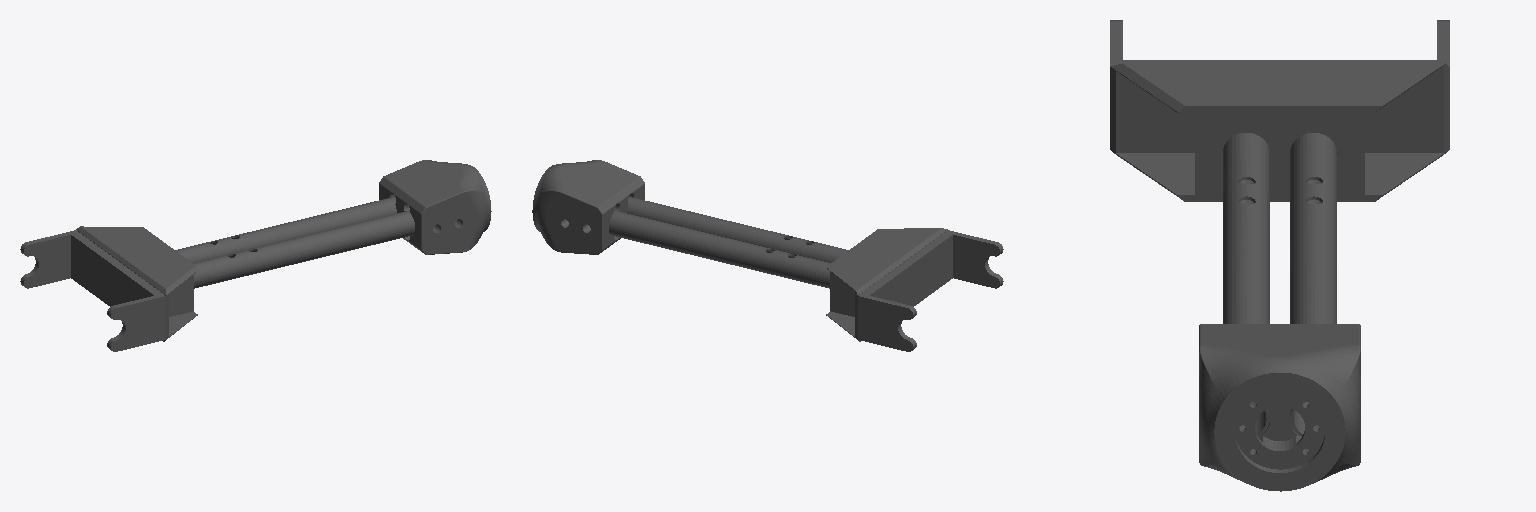
robot.urdf — vx300s:
<?xml version="1.0"?>
<robot name="vx300s" xmlns:xacro="http://ros.org/wiki/xacro">

  <material name="interbotix_black">
    <color rgba="0.4 0.4 0.4 1"/>
  </material>


  <link name="vx300s/base_link">
    <visual>
      <origin rpy="0 0 1.57" xyz="0 0 0"/>
      <geometry>
        <mesh filename="package://vx300s_meshes/vx300s_1_base.stl" scale="0.001 0.001 0.001"/>
      </geometry>
      <material name="interbotix_black"/>
    </visual>
    <collision>
      <origin rpy="0 0 1.57" xyz="0 0 0"/>
      <geometry>
        <mesh filename="package://vx300s_meshes/vx300s_1_base.stl" scale="0.001 0.001 0.001"/>
      </geometry>
    </collision>
    <inertial>
      <origin rpy="0 0 1.57" xyz="-0.0534774000 -0.0005625750 0.0205961000"/>
      <mass value="0.969034" />
      <inertia ixx="0.0060240000" iyy="0.0017000000" izz="0.0071620000" ixy="0.0000471300" ixz="0.0000038510" iyz="-0.0000841500" />
    </inertial>
  </link>
  

  <joint name="waist" type="revolute">
    <axis xyz="0 0 1"/>
    <limit effort="10" lower="-3.141582653589793" upper="3.141582653589793" velocity="3.141582653589793"/>
    <origin rpy="0 0 0" xyz="0 0 0.079"/>
    <parent link="vx300s/base_link"/>
    <child link="vx300s/shoulder_link"/>
    <dynamics friction="0.1"/>
  </joint>

  <transmission name="trans_waist">
    <type>transmission_interface/SimpleTransmission</type>
    <joint name="waist">
      <hardwareInterface>hardware_interface/EffortJointInterface</hardwareInterface>
    </joint>
    <actuator name="waist_motor">
      <mechanicalReduction>1</mechanicalReduction>
    </actuator>
  </transmission>

  <link name="vx300s/shoulder_link">
    <visual>
      <origin rpy="0 0 1.57" xyz="0 0 -0.003"/>
      <geometry>
        <mesh filename="package://vx300s_meshes/vx300s_2_shoulder.stl" scale="0.001 0.001 0.001"/>
      </geometry>
      <material name="interbotix_black"/>
    </visual>
    <collision>
      <origin rpy="0 0 1.57" xyz="0 0 -0.003"/>
      <geometry>
        <mesh filename="package://vx300s_meshes/vx300s_2_shoulder.stl" scale="0.001 0.001 0.001"/>
      </geometry>
    </collision>
    <inertial>
      <origin rpy="0 0 1.57" xyz="0.0002592330 -0.0000033552 0.0116129000"/>
      <mass value="0.798614" />
      <inertia ixx="0.0009388000" iyy="0.0011380000" izz="0.0012010000" ixy="-0.0000000010" ixz="-0.0000000191" iyz="0.0000059568" />
    </inertial>
  </link>

  <joint name="shoulder" type="revolute">
    <axis xyz="0 1 0"/>
    <limit effort="20" lower="-1.8500490071139892" upper="1.2566370614359172" velocity="3.141592653589793"/>
    <origin rpy="0 0 0" xyz="0 0 0.04805"/>
    <parent link="vx300s/shoulder_link"/>
    <child link="vx300s/upper_arm_link"/>
    <dynamics friction="0.1"/>
  </joint>

  <transmission name="trans_shoulder">
    <type>transmission_interface/SimpleTransmission</type>
    <joint name="shoulder">
      <hardwareInterface>hardware_interface/EffortJointInterface</hardwareInterface>
    </joint>
    <actuator name="shoulder_motor">
      <mechanicalReduction>1</mechanicalReduction>
    </actuator>
  </transmission>

  <link name="vx300s/upper_arm_link">
    <visual>
      <origin rpy="0 0 1.57" xyz="0 0 0"/>
      <geometry>
        <mesh filename="package://vx300s_meshes/vx300s_3_upper_arm.stl" scale="0.001 0.001 0.001"/>
      </geometry>
      <material name="interbotix_black"/>
    </visual>
    <collision>
      <origin rpy="0 0 1.57" xyz="0 0 0"/>
      <geometry>
        <mesh filename="package://vx300s_meshes/vx300s_3_upper_arm.stl" scale="0.001 0.001 0.001"/>
      </geometry>
    </collision>
    <inertial>
      <origin rpy="0 0 1.57" xyz="0.0206949000 0.0000000004 0.2264590000"/>
      <mass value="0.792592" />
      <inertia ixx="0.0089250000" iyy="0.0089370000" izz="0.0009357000" ixy="0.0000000000" ixz="0.0000000000" iyz="0.0012010000" />
    </inertial>
  </link>

  <joint name="elbow" type="revolute">
    <axis xyz="0 1 0"/>
    <limit effort="15" lower="-1.7627825445142729" upper="1.6057029118347832" velocity="3.141592653589793"/>
    <origin rpy="0 0 0" xyz="0.05955 0 0.3"/>
    <parent link="vx300s/upper_arm_link"/>
    <child link="vx300s/upper_forearm_link"/>
    <dynamics friction="0.1"/>
  </joint>

  <transmission name="trans_elbow">
    <type>transmission_interface/SimpleTransmission</type>
    <joint name="elbow">
      <hardwareInterface>hardware_interface/EffortJointInterface</hardwareInterface>
    </joint>
    <actuator name="elbow_motor">
      <mechanicalReduction>1</mechanicalReduction>
    </actuator>
  </transmission>

  <link name="vx300s/upper_forearm_link">
    <visual>
      <origin rpy="0 0 0" xyz="0 0 0"/>
      <geometry>
        <mesh filename="package://vx300s_meshes/newarm.stl" scale="0.001 0.001 0.001"/>
      </geometry>
      <material name="interbotix_black"/>
    </visual>
    <collision>
      <origin rpy="0 0 0" xyz="0 0 0"/>
      <geometry>
        <mesh filename="package://vx300s_meshes/newarm.stl" scale="0.001 0.001 0.001"/>
      </geometry>
    </collision>
    <inertial>
      <origin rpy="0 0 0" xyz="0.105723 0 0"/>
      <mass value="0.322228" />
      <inertia ixx="0.0001524000" iyy="0.0013420000" izz="0.0014410000" ixy="-0.0000188300" ixz="-0.0000084064" iyz="0.0000012564" />
    </inertial>
  </link>

  <joint name="forearm_roll" type="revolute">
    <axis xyz="1 0 0"/>
    <limit effort="2" lower="-3.141582653589793" upper="3.141582653589793" velocity="3.141582653589793"/>
    <origin rpy="0 0 0" xyz="0.2523 0 0"/>
    <parent link="vx300s/upper_forearm_link"/>
    <child link="vx300s/lower_forearm_link"/>
    <dynamics friction="0.1"/>
  </joint>

  <transmission name="trans_forearm_roll">
    <type>transmission_interface/SimpleTransmission</type>
    <joint name="forearm_roll">
      <hardwareInterface>hardware_interface/EffortJointInterface</hardwareInterface>
    </joint>
    <actuator name="forearm_roll_motor">
      <mechanicalReduction>1</mechanicalReduction>
    </actuator>
  </transmission>

  <link name="vx300s/lower_forearm_link">
    <visual>
      <origin rpy="3.141582653589793 0 0" xyz="0 0 0"/>
      <geometry>
        <mesh filename="package://vx300s_meshes/vx300s_5_lower_forearm.stl" scale="0.001 0.001 0.001"/>
      </geometry>
      <material name="interbotix_black"/>
    </visual>
    <collision>
      <origin rpy="3.141582653589793 0 0" xyz="0 0 0"/>
      <geometry>
        <mesh filename="package://vx300s_meshes/vx300s_5_lower_forearm.stl" scale="0.001 0.001 0.001"/>
      </geometry>
    </collision>
    <inertial>
      <origin rpy="3.141582653589793 0 0" xyz="0.0513477000 0.0068046200 0"/>
      <mass value="0.414823" />
      <inertia ixx="0.0001753000" iyy="0.0005269000" izz="0.0005911000" ixy="-0.0000852800" ixz="0" iyz="0" />
    </inertial>
  </link>

  <joint name="wrist_angle" type="revolute">
    <axis xyz="0 1 0"/>
    <limit effort="5" lower="-1.8675022996339325" upper="2.234021442552742" velocity="3.141592653589793"/>
    <origin rpy="0 0 0" xyz="0.1 0 0"/>
    <parent link="vx300s/lower_forearm_link"/>
    <child link="vx300s/wrist_link"/>
    <dynamics friction="0.1"/>
  </joint>

  <transmission name="trans_wrist_angle">
    <type>transmission_interface/SimpleTransmission</type>
    <joint name="wrist_angle">
      <hardwareInterface>hardware_interface/EffortJointInterface</hardwareInterface>
    </joint>
    <actuator name="wrist_angle_motor">
      <mechanicalReduction>1</mechanicalReduction>
    </actuator>
  </transmission>

  <link name="vx300s/wrist_link">
    <visual>
      <origin rpy="0 0 1.57" xyz="0 0 0"/>
      <geometry>
        <mesh filename="package://vx300s_meshes/vx300s_6_wrist.stl" scale="0.001 0.001 0.001"/>
      </geometry>
      <material name="interbotix_black"/>
    </visual>
    <collision>
      <origin rpy="0 0 1.57" xyz="0 0 0"/>
      <geometry>
        <mesh filename="package://vx300s_meshes/vx300s_6_wrist.stl" scale="0.001 0.001 0.001"/>
      </geometry>
    </collision>
    <inertial>
      <origin rpy="0 0 1.57" xyz="0.0467430000 -0.0000076652 0.0105650000"/>
      <mass value="0.115395" />
      <inertia ixx="0.0000463100" iyy="0.0000451400" izz="0.0000527000" ixy="0.0000000195" ixz="0.0000000023" iyz="0.0000042002" />
    </inertial>
  </link>

  <joint name="wrist_rotate" type="revolute">
    <axis xyz="1 0 0"/>
    <limit effort="1" lower="-3.141582653589793" upper="3.141582653589793" velocity="3.141592653589793"/>
    <origin rpy="0 0 0" xyz="0.069744 0 0"/>
    <parent link="vx300s/wrist_link"/>
    <child link="vx300s/gripper_link"/>
    <dynamics friction="0.1"/>
  </joint>

  <transmission name="trans_wrist_rotate">
    <type>transmission_interface/SimpleTransmission</type>
    <joint name="wrist_rotate">
      <hardwareInterface>hardware_interface/EffortJointInterface</hardwareInterface>
    </joint>
    <actuator name="wrist_rotate_motor">
      <mechanicalReduction>1</mechanicalReduction>
    </actuator>
  </transmission>

  <link name="vx300s/gripper_link">
    <visual>
      <origin rpy="0 0 1.57" xyz="-0.02 0 0"/>
      <geometry>
        <mesh filename="package://vx300s_meshes/vx300s_7_gripper.stl" scale="0.001 0.001 0.001"/>
      </geometry>
      <material name="interbotix_black"/>
    </visual>
    <collision>
      <origin rpy="0 0 1.57" xyz="-0.02 0 0"/>
      <geometry>
        <mesh filename="package://vx300s_meshes/vx300s_7_gripper.stl" scale="0.001 0.001 0.001"/>
      </geometry>
    </collision>
    <inertial>
      <origin rpy="0 0 1.57" xyz="0.0230010000 0.0000000000 0.0115230000"/>
      <mass value="0.097666" />
      <inertia ixx="0.0000326800" iyy="0.0000243600" izz="0.0000211900" ixy="0.0000000000" ixz="0.0000000000" iyz="0.0000002785" />
    </inertial>
  </link>

  <joint name="ee_arm" type="fixed">
    <axis xyz="1 0 0"/>
    <origin rpy="0 0 0" xyz="0.042825 0 0"/>
    <parent link="vx300s/gripper_link"/>
    <child link="vx300s/ee_arm_link"/>
  </joint>

  <link name="vx300s/ee_arm_link">
    <inertial>
      <mass value="0.001" />
      <inertia ixx="0.0001" iyy="0.0001" izz="0.0001" ixy="0" ixz="0" iyz="0" />
    </inertial>
  </link>

  <joint name="gripper" type="fixed">
    <axis xyz="1 0 0"/>
    <limit effort="1" velocity="3.141592653589793"/>
    <origin rpy="0 0 0" xyz="0.005675 0 0"/>
    <parent link="vx300s/ee_arm_link"/>
    <child link="vx300s/gripper_prop_link"/>
    <dynamics friction="0.1"/>
  </joint>

  <transmission name="trans_gripper">
    <type>transmission_interface/SimpleTransmission</type>
    <joint name="gripper">
      <hardwareInterface>hardware_interface/EffortJointInterface</hardwareInterface>
    </joint>
    <actuator name="gripper_motor">
      <mechanicalReduction>1</mechanicalReduction>
    </actuator>
  </transmission>

  <link name="vx300s/gripper_prop_link">
    <visual>
      <origin rpy="0 0 1.57" xyz="-0.0685 0 0"/>
      <geometry>
        <mesh filename="package://vx300s_meshes/vx300s_8_gripper_prop.stl" scale="0.001 0.001 0.001"/>
      </geometry>
      <material name="interbotix_black"/>
    </visual>
    <collision>
      <origin rpy="0 0 1.57" xyz="-0.0685 0 0"/>
      <geometry>
        <mesh filename="package://vx300s_meshes/vx300s_8_gripper_prop.stl" scale="0.001 0.001 0.001"/>
      </geometry>
    </collision>
    <inertial>
      <origin rpy="0 0 1.57" xyz="0.0023780000 0.0000000285 0.0000000000"/>
      <mass value="0.008009" />
      <inertia ixx="0.0000020386" iyy="0.0000042979" izz="0.0000023796" ixy="0.0000000000" ixz="0.0000006559" iyz="0.0000000000" />
    </inertial>
  </link>


    <joint name="gripper_bar" type="fixed">
      <axis xyz="1 0 0"/>
      <origin rpy="0 0 0" xyz="0 0 0"/>
      <parent link="vx300s/ee_arm_link"/>
      <child link="vx300s/gripper_bar_link"/>
    </joint>

    <link name="vx300s/gripper_bar_link">
      <visual>
        <origin rpy="0 0 1.57" xyz="-0.063 0 0"/>
        <geometry>
          <mesh filename="package://vx300s_meshes/vx300s_9_gripper_bar.stl" scale="0.001 0.001 0.001"/>
        </geometry>
        <material name="interbotix_black"/>
      </visual>
      <collision>
        <origin rpy="0 0 1.57" xyz="-0.063 0 0"/>
        <geometry>
          <mesh filename="package://vx300s_meshes/vx300s_9_gripper_bar.stl" scale="0.001 0.001 0.001"/>
        </geometry>
      </collision>
      <inertial>
        <origin rpy="0 0 1.57" xyz="0.0067940000 -0.0000004272 -0.0007760000"/>
        <mass value="0.150986" />
        <inertia ixx="0.0000789500" iyy="0.0003283000" izz="0.0003095000" ixy="-0.0000000012" ixz="0.0000001341" iyz="0.0000017465" />
      </inertial>
    </link>

    <joint name="ee_bar" type="fixed">
      <axis xyz="1 0 0"/>
      <origin rpy="0 0 0" xyz="0.025875 0 0"/>
      <parent link="vx300s/gripper_bar_link"/>
      <child link="vx300s/fingers_link"/>
    </joint>

    <link name="vx300s/fingers_link">
      <inertial>
        <mass value="0.001" />
        <inertia ixx="0.0001" iyy="0.0001" izz="0.0001" ixy="0" ixz="0" iyz="0" />
      </inertial>
    </link>


      <joint name="left_finger" type="prismatic">
        <axis xyz="0 1 0"/>
        <limit effort="5" lower="0.021" upper="0.057" velocity="1"/>
        <origin rpy="0 0 0" xyz="0 0 0"/>
        <parent link="vx300s/fingers_link"/>
        <child link="vx300s/left_finger_link"/>
        <dynamics friction="0.1"/>
      </joint>

      <transmission name="trans_left_finger">
        <type>transmission_interface/SimpleTransmission</type>
        <joint name="left_finger">
          <hardwareInterface>hardware_interface/EffortJointInterface</hardwareInterface>
        </joint>
        <actuator name="left_finger_motor">
          <mechanicalReduction>1</mechanicalReduction>
        </actuator>
      </transmission>

      <link name="vx300s/left_finger_link">
        <visual>
          <origin rpy="1.57 -3.141582653589793 1.57" xyz="-0.0404 -0.0575 0"/>
          <geometry>
            <mesh filename="package://vx300s_meshes/vx300s_10_gripper_finger.stl" scale="0.001 0.001 0.001"/>
          </geometry>
          <material name="interbotix_black"/>
        </visual>
        <collision>
          <origin rpy="1.57 -3.141582653589793 1.57" xyz="-0.0404 -0.0575 0"/>
          <geometry>
            <mesh filename="package://vx300s_meshes/vx300s_10_gripper_finger.stl" scale="0.001 0.001 0.001"/>
          </geometry>
        </collision>
        <inertial>
          <origin rpy="3.141582653589793 3.141582653589793 1.57" xyz="0.0173440000 -0.0060692000 0.0000000000"/>
          <mass value="0.034796" />
          <inertia ixx="0.0000243300" iyy="0.0000125500" izz="0.0000141700" ixy="-0.0000024004" ixz="0.0000000000" iyz="0.0000000000" />
        </inertial>
      </link>

      <joint name="right_finger" type="prismatic">
        <axis xyz="0 1 0"/>
        <limit effort="5" lower="-0.057" upper="-0.021" velocity="1"/>
        <origin rpy="0 0 0" xyz="0 0 0"/>
        <parent link="vx300s/fingers_link"/>
        <child link="vx300s/right_finger_link"/>
        <dynamics friction="0.1"/>
          <mimic joint="left_finger" multiplier="-1" offset="0"/>
      </joint>

      <transmission name="trans_right_finger">
        <type>transmission_interface/SimpleTransmission</type>
        <joint name="right_finger">
          <hardwareInterface>hardware_interface/EffortJointInterface</hardwareInterface>
        </joint>
        <actuator name="right_finger_motor">
          <mechanicalReduction>1</mechanicalReduction>
        </actuator>
      </transmission>

      <link name="vx300s/right_finger_link">
        <visual>
          <origin rpy="-1.57 3.141582653589793 -1.57" xyz="-0.0404 0.0575 0 "/>
          <geometry>
            <mesh filename="package://vx300s_meshes/vx300s_10_gripper_finger.stl" scale="0.001 0.001 0.001"/>
          </geometry>
          <material name="interbotix_black"/>
        </visual>
        <collision>
          <origin rpy="-1.57 3.141582653589793 -1.57" xyz="-0.0404 0.0575 0 "/>
          <geometry>
            <mesh filename="package://vx300s_meshes/vx300s_10_gripper_finger.stl" scale="0.001 0.001 0.001"/>
          </geometry>
        </collision>
        <inertial>
          <origin rpy="0 3.141582653589793 1.57" xyz="0.0173440000 0.0060692000  0.0000000000"/>
          <mass value="0.034796" />
          <inertia ixx="0.0000243300" iyy="0.0000125500" izz="0.0000141700" ixy="0.0000024001" ixz="0.0000000000" iyz="0.0000000000" />
        </inertial>
      </link>

      <joint name="ee_gripper" type="fixed">
        <axis xyz="1 0 0"/>
        <origin rpy="0 0 0" xyz="0.0385 0 0"/>
        <parent link="vx300s/fingers_link"/>
        <child link="vx300s/ee_gripper_link"/>
      </joint>

      <link name="vx300s/ee_gripper_link">
        <inertial>
          <mass value="0.001" />
          <inertia ixx="0.0001" iyy="0.0001" izz="0.0001" ixy="0" ixz="0" iyz="0" />
        </inertial>
      </link>

</robot>

--- Render facts (derived) ---
The picture shows the robot from 3 angles, left to right: view 1: azimuth 30°, elevation 25°; view 2: azimuth 150°, elevation 25°; view 3: azimuth 270°, elevation 25°; orthographic projection.
Robot: vx300s — 14 links, 13 joints (6 revolute, 2 prismatic, 5 fixed); root link vx300s/base_link; default pose: joints at zero except 2 at the middle of their limits (left_finger = 0.039, right_finger = -0.039).
Links seen in each view (by area): view 1: vx300s/upper_forearm_link; view 2: vx300s/upper_forearm_link; view 3: vx300s/upper_forearm_link.
Boxes of the visible links, x1,y1,x2,y2 form: vx300s/upper_forearm_link: (20,160,491,351); vx300s/upper_forearm_link: (532,160,1003,351); vx300s/upper_forearm_link: (1110,20,1449,491).
Size in the robot's own frame: 0.2634 by 0.1007 by 0.0421 metres.
Meshes: 10 distinct files referenced, 1 mesh visuals loaded (1 binary STL); not drawn: 10 (reference not matched to a file when rendering).